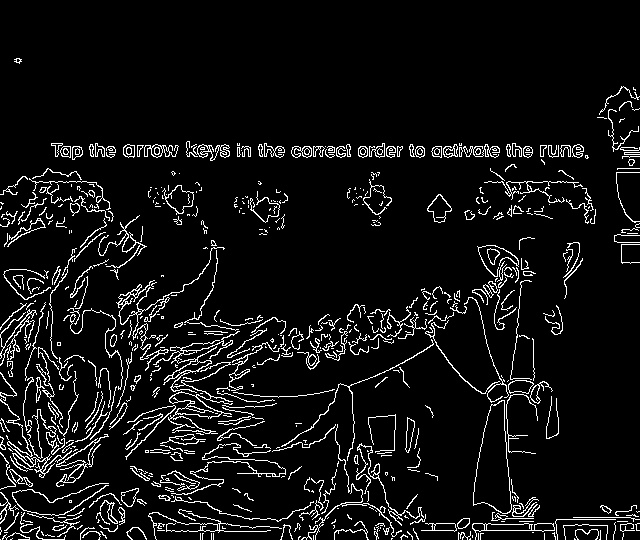down: (359, 179, 396, 222)
left: (157, 179, 198, 220), (246, 193, 288, 230)
up: (423, 189, 459, 229)
